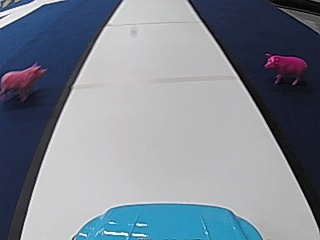pig: (1, 60, 45, 103), (260, 49, 308, 84)
